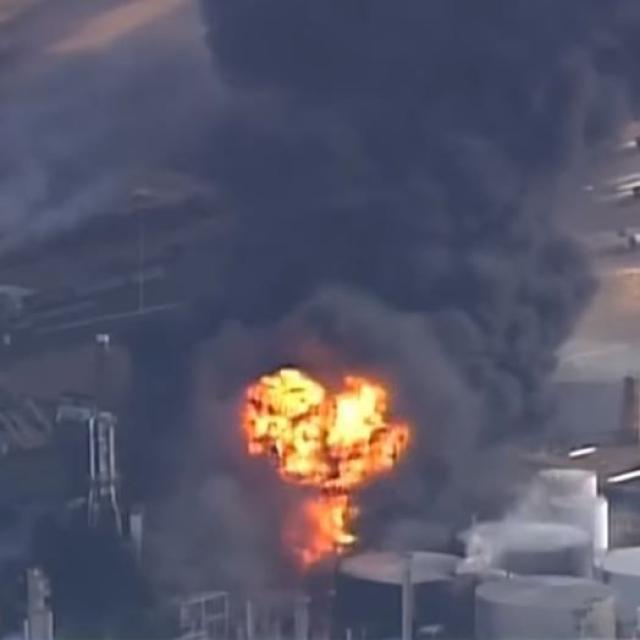Fire: (232, 351, 393, 555)
Smoke: (110, 8, 636, 543)
